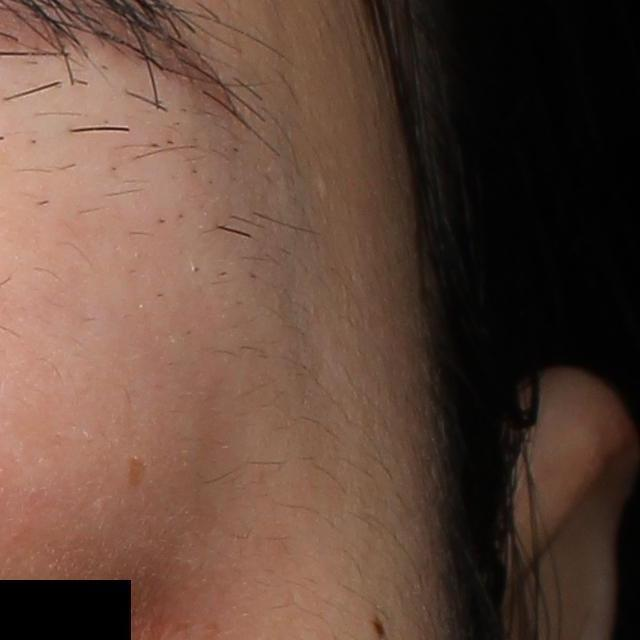melasma: (121, 453, 152, 493)
